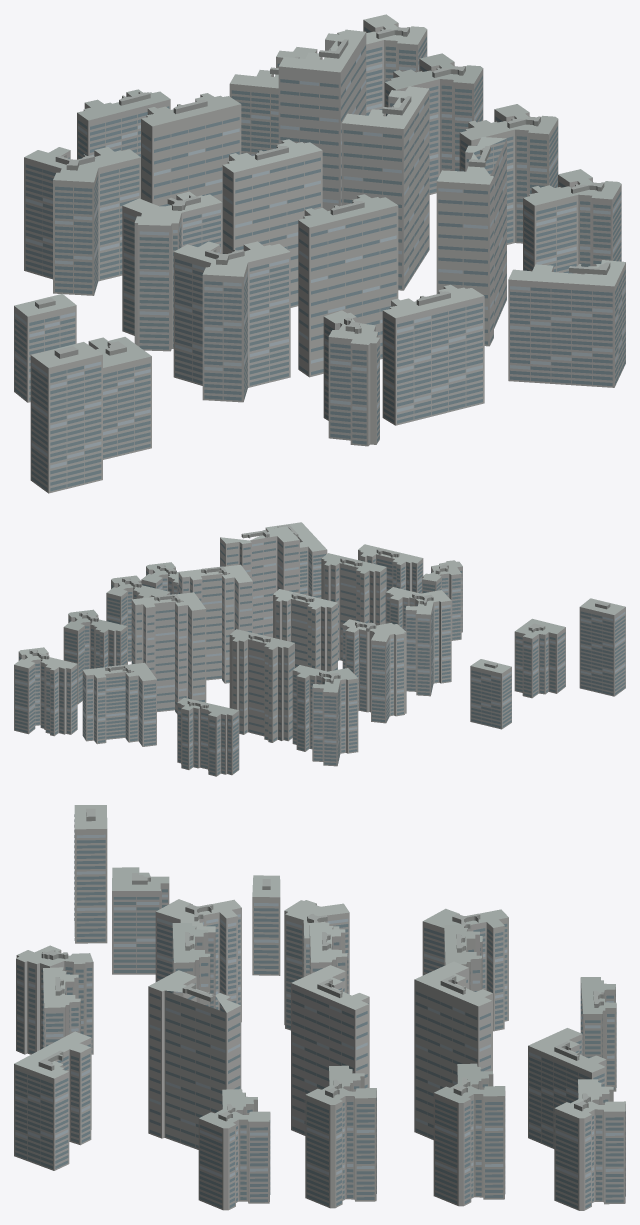
Rendered from apt-a10025104.glb.
3 views of the same model, one above another, from view 1: azimuth 30°, elevation 25°; view 2: azimuth 150°, elevation 25°; view 3: azimuth 270°, elevation 25° (orthographic). The views are drawn at different scales.
Visible parts, largest first — view 1: apt-a10025104; view 2: apt-a10025104; view 3: apt-a10025104.
Part boxes in pixels (x1,y1,x2,y2): apt-a10025104: (14, 14, 625, 493); apt-a10025104: (14, 522, 625, 776); apt-a10025104: (14, 805, 625, 1210).
Size of the model in its own units: 342 by 86 by 304.
